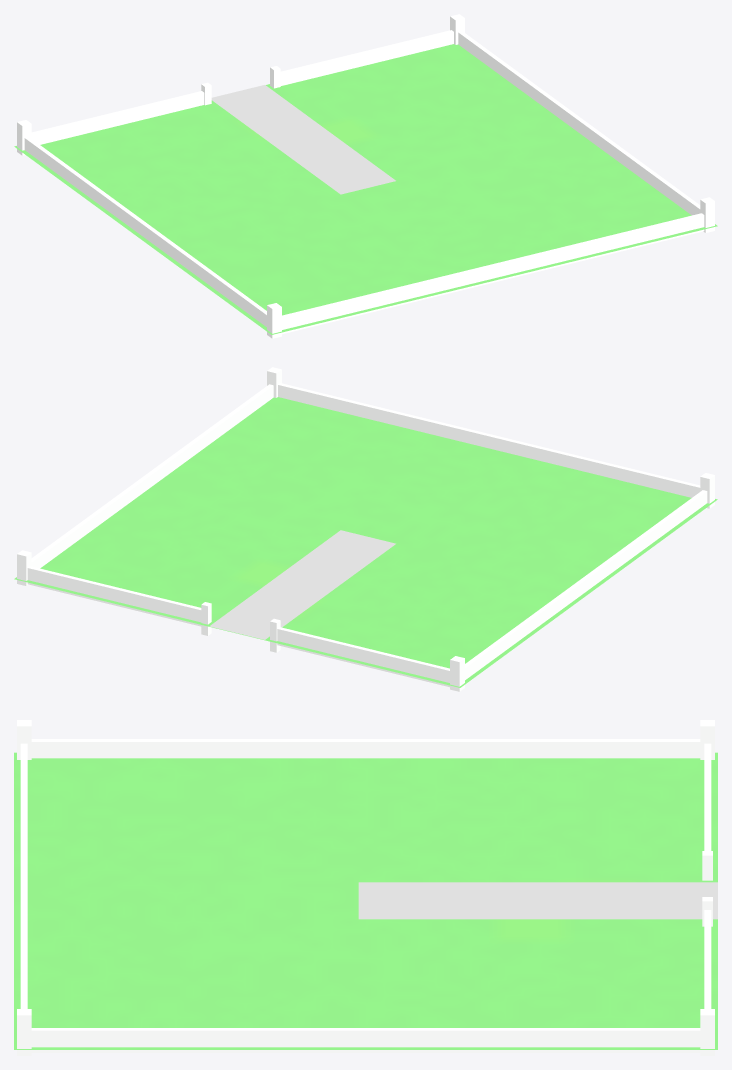
Rendered from tile_for_home_1x1.003.glb.
3 views of the same model, one above another, from view 1: azimuth 30°, elevation 25°; view 2: azimuth 150°, elevation 25°; view 3: azimuth 270°, elevation 25° (orthographic). The views are drawn at different scales.
Parts seen in each view (by area): view 1: tile_for_home_1x1.003(Clone); view 2: tile_for_home_1x1.003(Clone); view 3: tile_for_home_1x1.003(Clone).
Part boxes in pixels (x1,y1,x2,y2): tile_for_home_1x1.003(Clone): (14, 14, 717, 338); tile_for_home_1x1.003(Clone): (14, 367, 717, 691); tile_for_home_1x1.003(Clone): (14, 720, 717, 1055).
Bounding box in the file's own units: 8 × 0.6168 × 8.
1 material, 1 textured.
